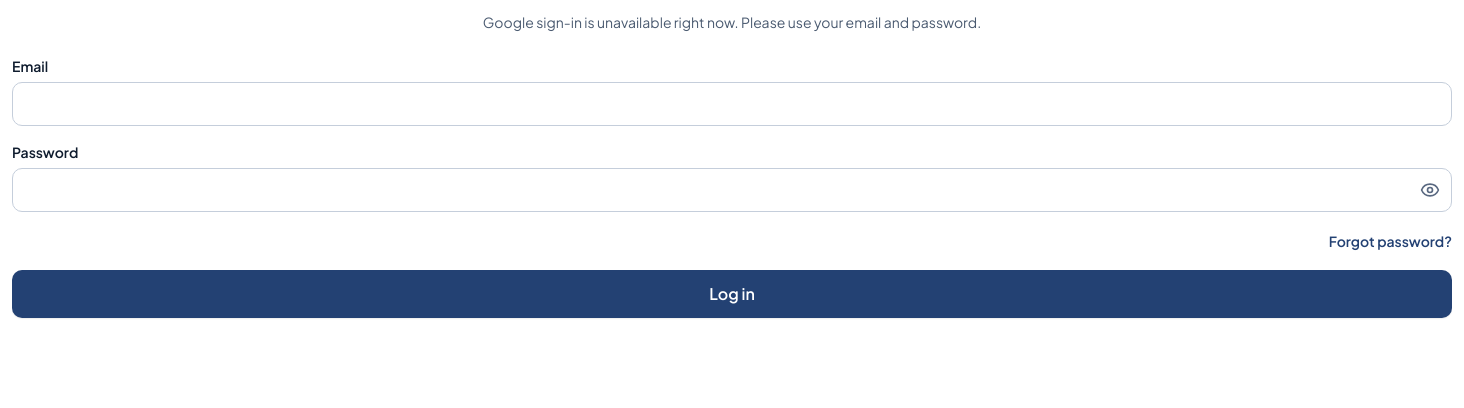
Test case: LoginForm › shows one generic message for bad credentials and does not navigate
Step 1. Type "a@example.com" into the field labelled "Email" → [732, 104], box x1=12 y1=82 x2=1452 y2=126
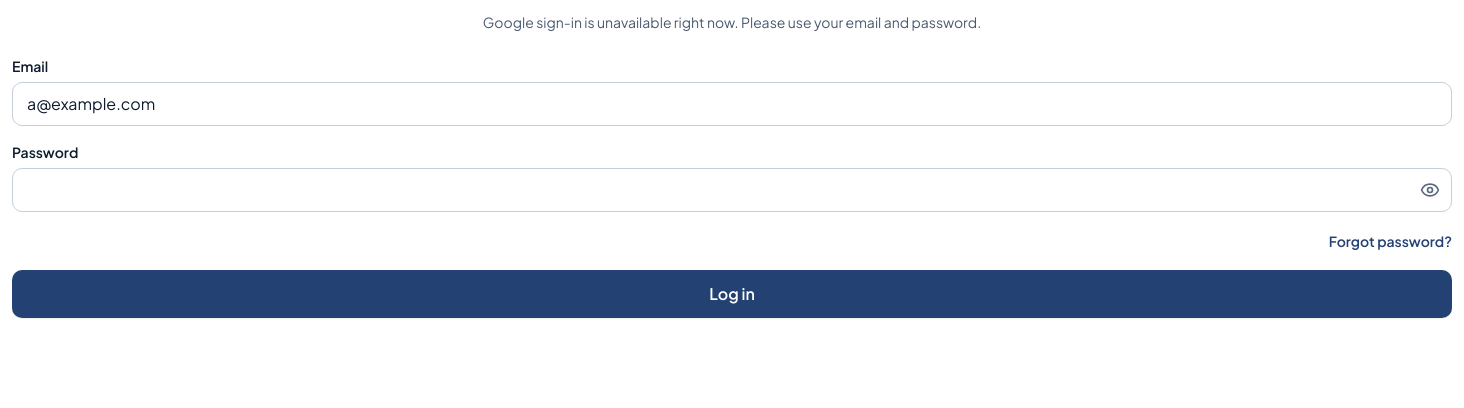
Step 2. Type "wrong-password" into the password field labelled "Password" → [732, 190], box x1=12 y1=168 x2=1452 y2=212
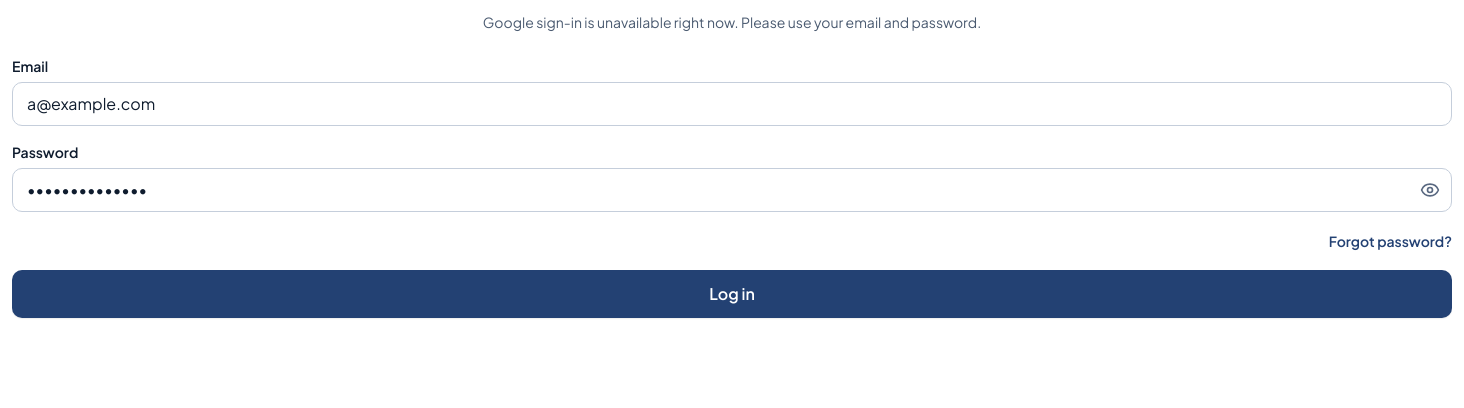
Step 3. Click the button "Log in" → [732, 294], box x1=12 y1=270 x2=1452 y2=318
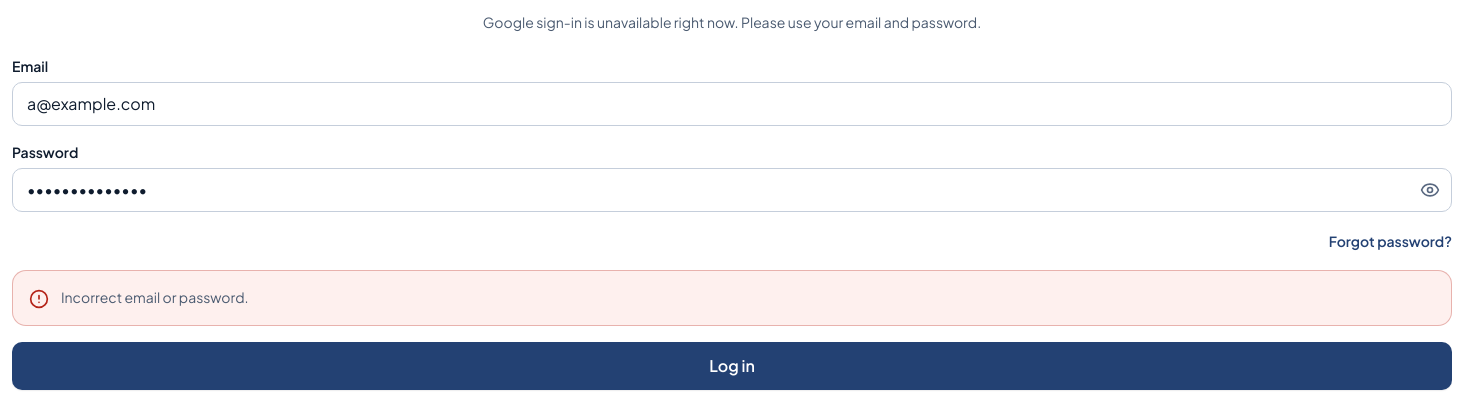
Now the text "Incorrect email or password." is shown, box x1=61 y1=287 x2=249 y2=307
